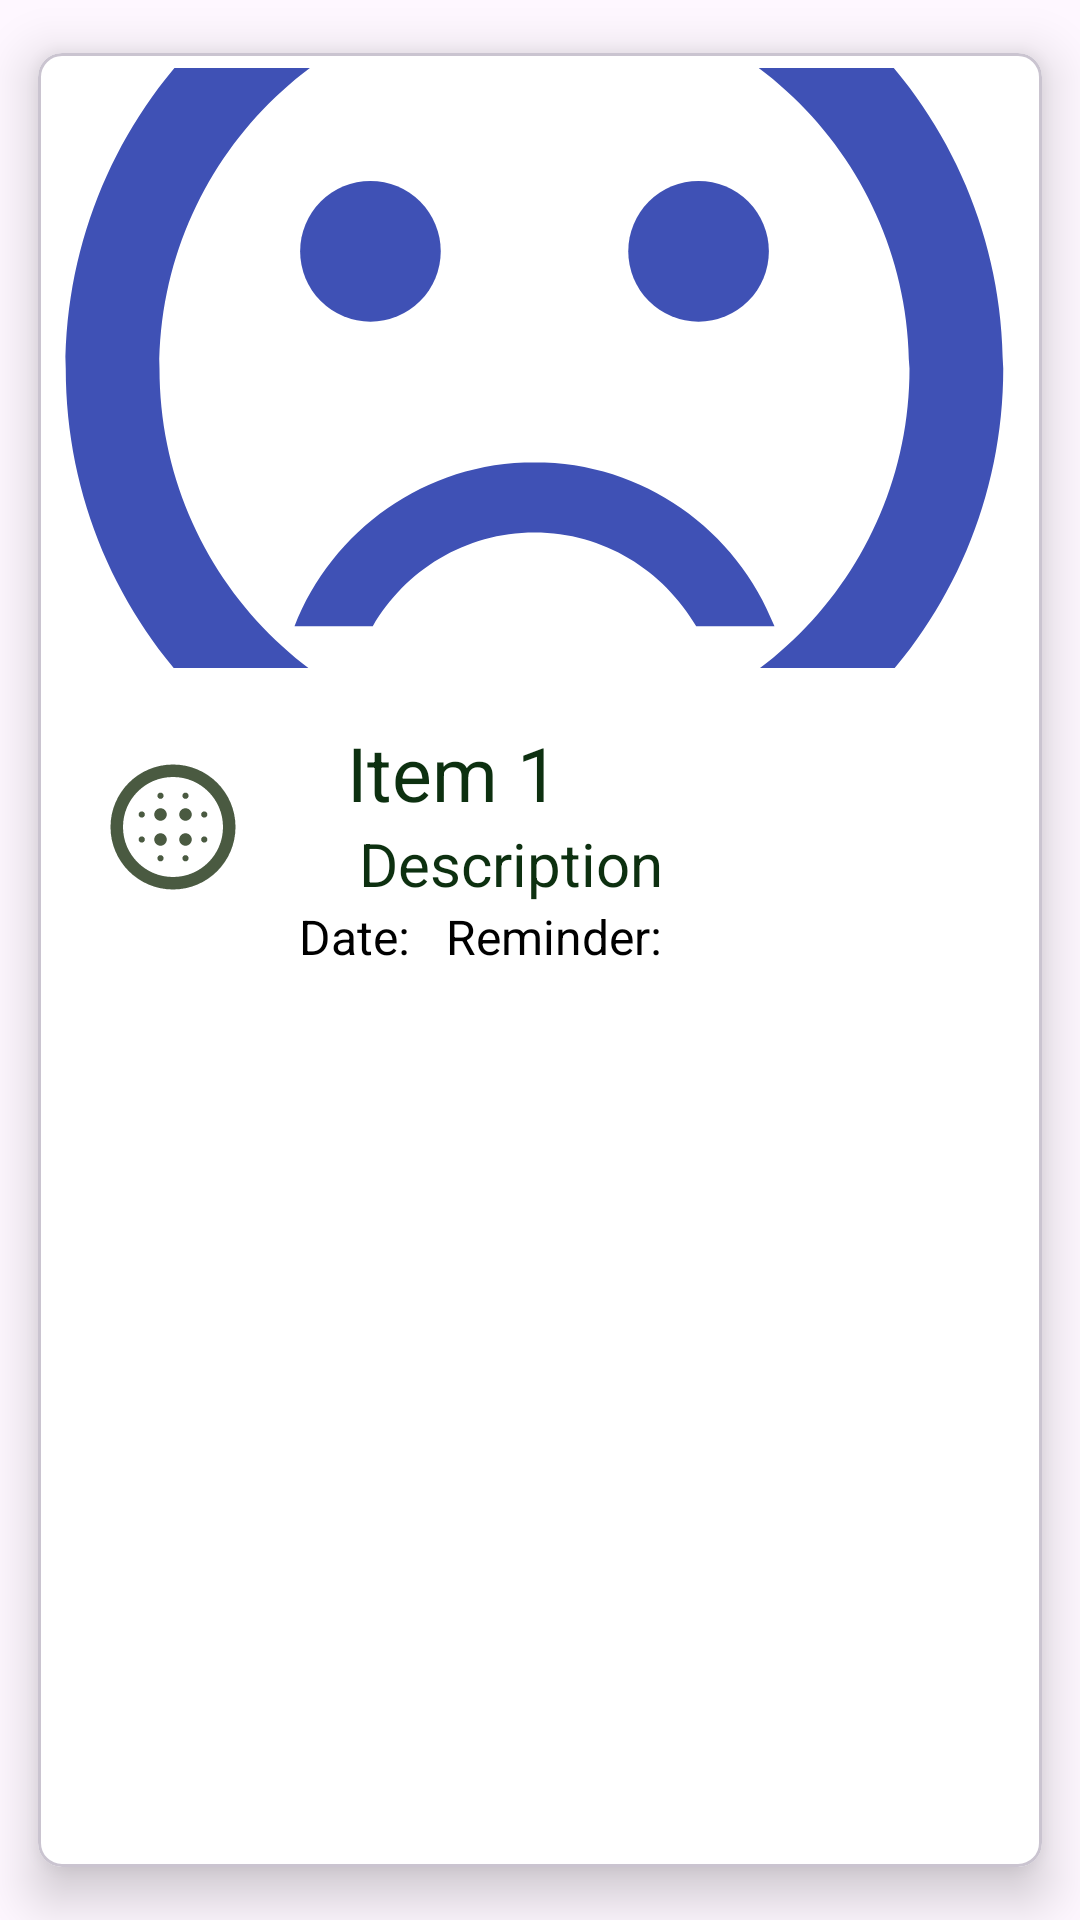

Where to tap for icons on this 1080*1920 app screen, as (x=x, y=y):
blur circular: (x=173, y=827)
